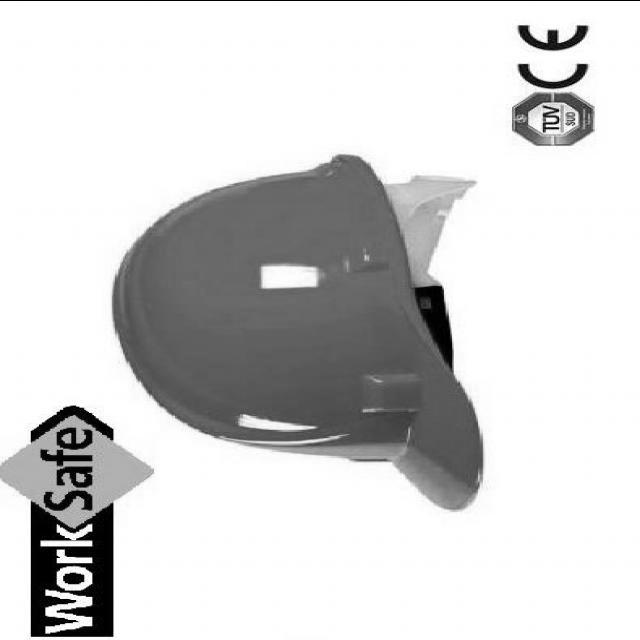construction helmet: (112, 151, 486, 513)
